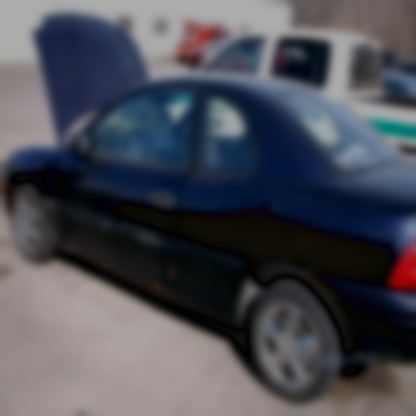Vehicle: (1, 12, 415, 406)
